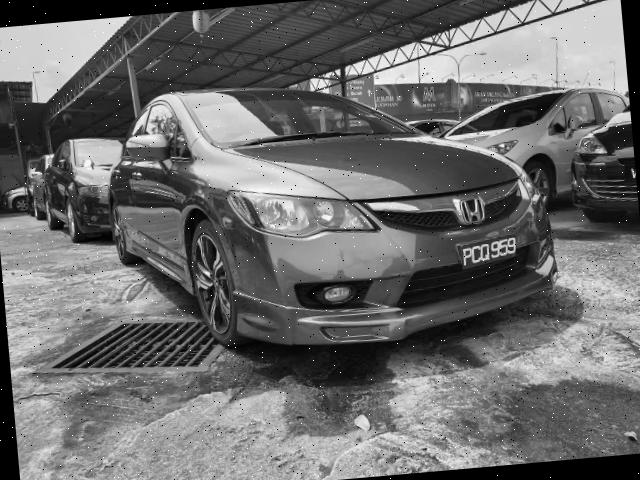License_Plate: (460, 237, 523, 268)
